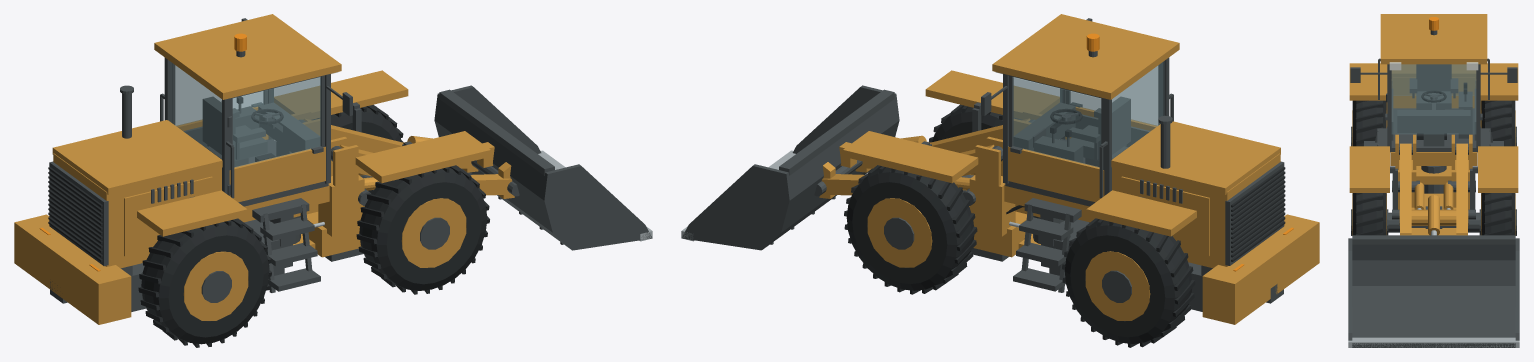
3 renders of one model, left to right at view 1: azimuth 30°, elevation 25°; view 2: azimuth 150°, elevation 25°; view 3: azimuth 270°, elevation 25°, orthographic. The views are drawn at different scales.
Visible parts, largest first — view 1: Cab_roof, Front_R, Rear_R, Engine_top, Counterweight, Door_glass, Bucket_cheek_-1.43175, Fender_1.4_-1.1, Bucket_shell, Door_lower, Rear_window, Fender_-1.95_-1.1 (+31 smaller); view 2: Cab_roof, Front_L, Rear_L, Engine_top, Counterweight, Fixed_cab_side_glass, Bucket_cheek_1.43175, Fender_1.4_1.1, Bucket_shell, Fixed_cab_side_lower, Rear_window, Fender_-1.95_1.1 (+32 smaller); view 3: Bucket_shell, Front_windshield, Cab_roof, Fender_1.4_-1.1, Fender_1.4_1.1, Dashboard, Bucket_top_edge, Cutting_edge, Fender_-1.95_1.1, Fender_-1.95_-1.1, Rear_window, Front_R (+35 smaller).
Part boxes in pixels (x1,y1,x2,y2): Cab_roof: (154, 14, 341, 99); Front_R: (359, 167, 487, 290); Rear_R: (141, 220, 269, 344); Engine_top: (52, 120, 222, 194); Counterweight: (14, 214, 131, 324); Door_glass: (233, 77, 321, 167); Bucket_cheek_-1.43175: (542, 164, 652, 250); Fender_1.4_-1.1: (355, 131, 490, 183); Bucket_shell: (437, 99, 568, 247); Door_lower: (229, 146, 325, 202); Rear_window: (169, 61, 221, 158); Fender_-1.95_-1.1: (137, 190, 247, 236); Cab_roof: (992, 14, 1179, 99); Front_L: (846, 166, 974, 290); Rear_L: (1064, 219, 1192, 343); Engine_top: (1111, 121, 1280, 194); Counterweight: (1202, 214, 1319, 324); Fixed_cab_side_glass: (1012, 77, 1100, 167); Bucket_cheek_1.43175: (682, 164, 791, 250); Fender_1.4_1.1: (843, 131, 978, 183); Bucket_shell: (765, 99, 897, 247); Fixed_cab_side_lower: (1008, 146, 1104, 202); Rear_window: (1112, 61, 1164, 158); Fender_-1.95_1.1: (1086, 190, 1196, 236); Bucket_shell: (1352, 244, 1515, 347); Front_windshield: (1392, 64, 1475, 133); Cab_roof: (1380, 14, 1487, 64); Fender_1.4_-1.1: (1349, 146, 1389, 192); Fender_1.4_1.1: (1478, 146, 1518, 192); Dashboard: (1397, 110, 1470, 132); Bucket_top_edge: (1352, 235, 1515, 244); Cutting_edge: (1348, 337, 1519, 347); Fender_-1.95_1.1: (1480, 63, 1518, 100); Fender_-1.95_-1.1: (1349, 63, 1387, 100); Rear_window: (1392, 64, 1475, 95); Front_R: (1352, 193, 1386, 235).
Size of the model in its own units: 8.31 by 3.74 by 2.93.
